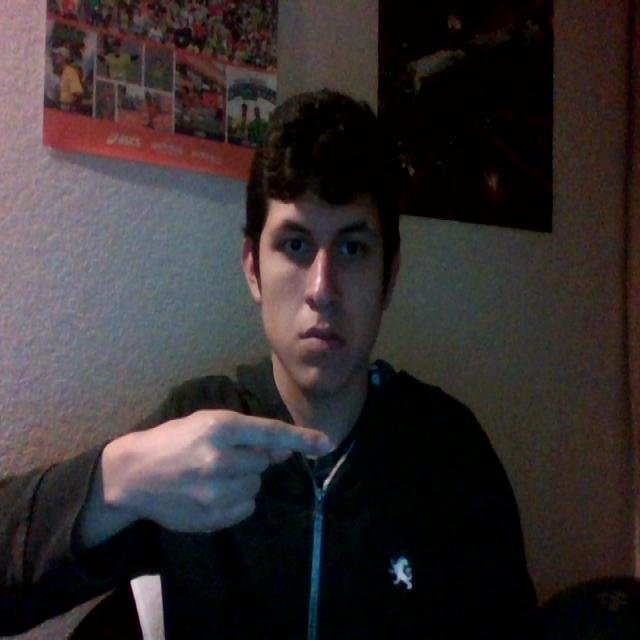G: (74, 362, 374, 600)
